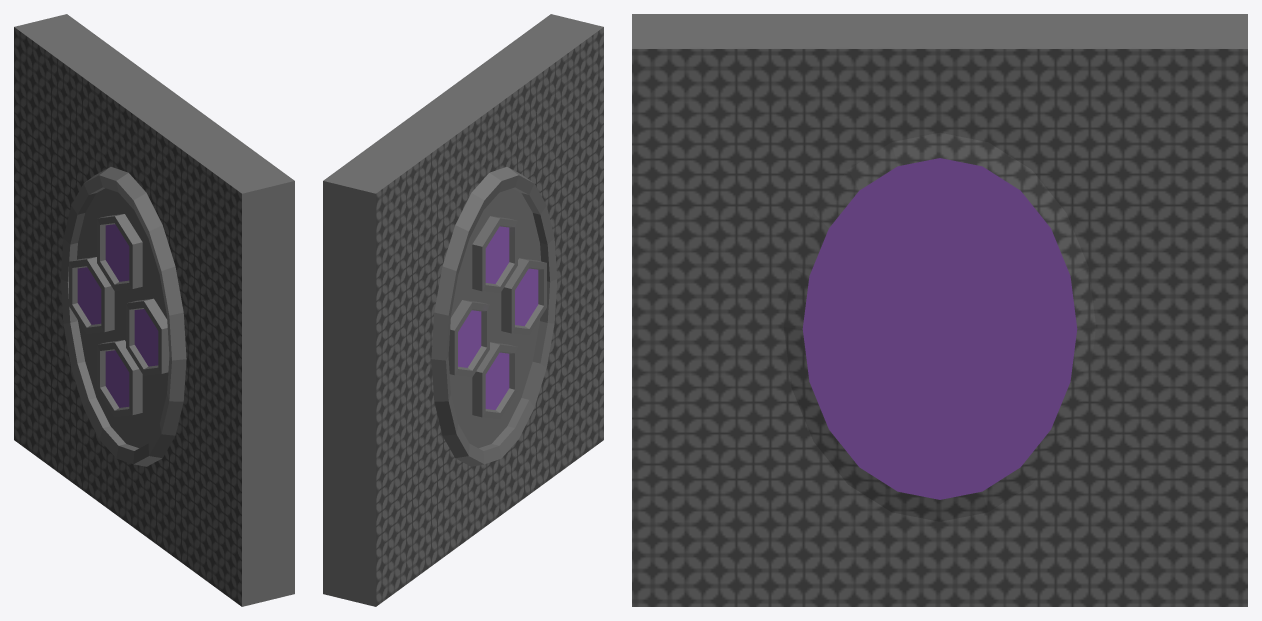
Rendered from SM_B4_Wall4_SM_B4_Wall4.fbx.
3 renders of one model, left to right at view 1: azimuth 30°, elevation 25°; view 2: azimuth 150°, elevation 25°; view 3: azimuth 270°, elevation 25°, orthographic. The views are drawn at different scales.
Parts seen in each view (by area): view 1: SM_B4_Wall4_SM_B4_Wall4; view 2: SM_B4_Wall4_SM_B4_Wall4; view 3: SM_B4_Wall4_SM_B4_Wall4.
Boxes of the visible parts, <box> form: SM_B4_Wall4_SM_B4_Wall4: <box>14,14,294,606</box>; SM_B4_Wall4_SM_B4_Wall4: <box>323,14,603,606</box>; SM_B4_Wall4_SM_B4_Wall4: <box>632,14,1247,606</box>.
Size of the model in its own units: 68.3 by 406 by 406.
Materials: 1 (1 with a texture image).
